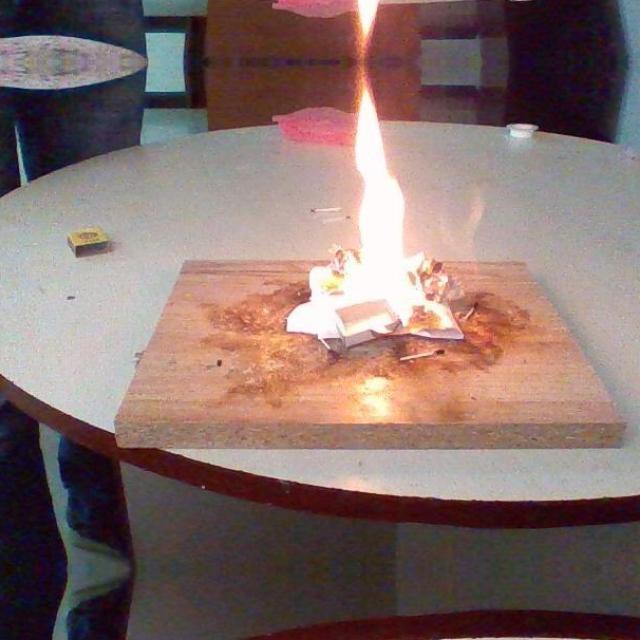smoke: (324, 72, 453, 318), (324, 0, 453, 52)
